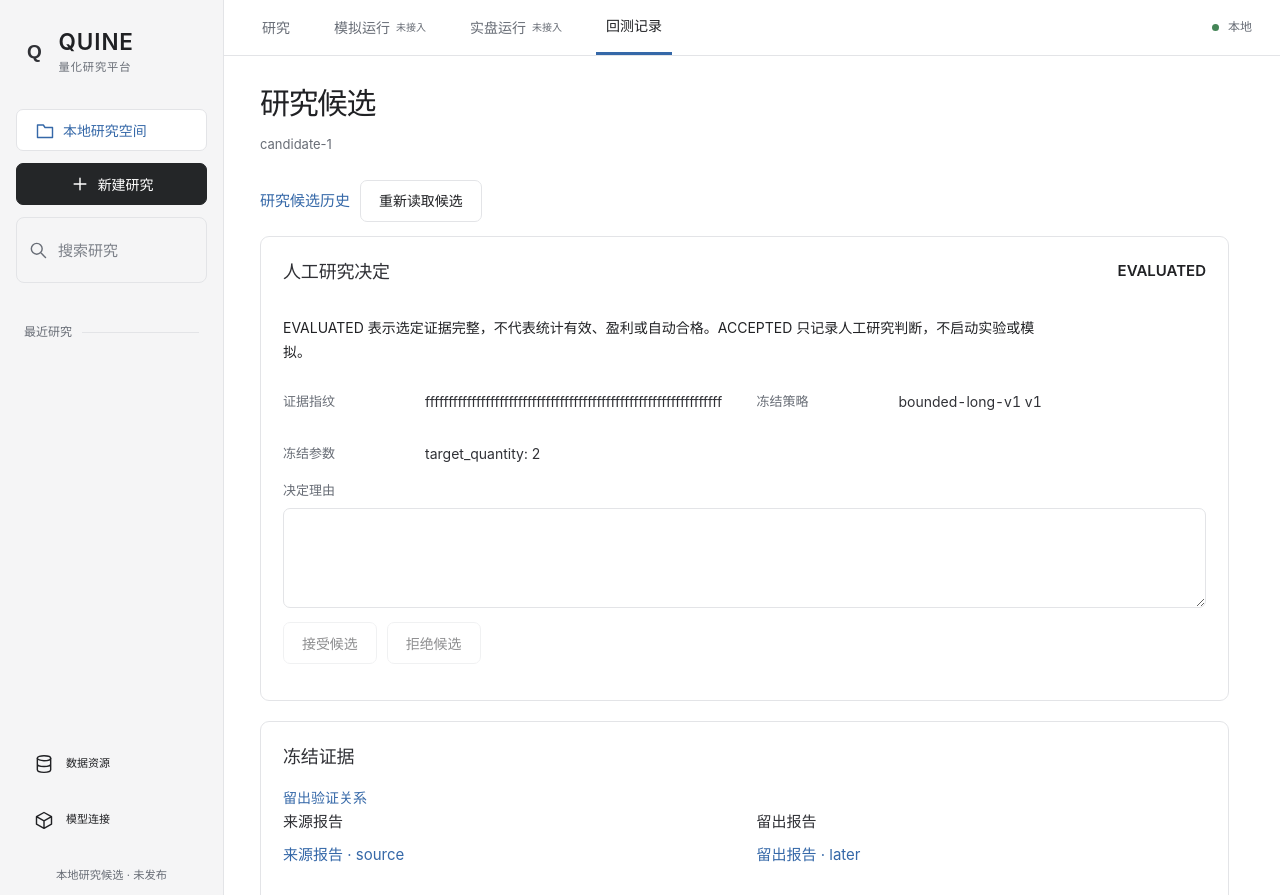
Test: reads back an uncertain decision without replaying it
The image size is (1280, 895).
Type "人工判断" into the text box labelled "决定理由". click: (744, 558)
box: [283,508,1206,608]
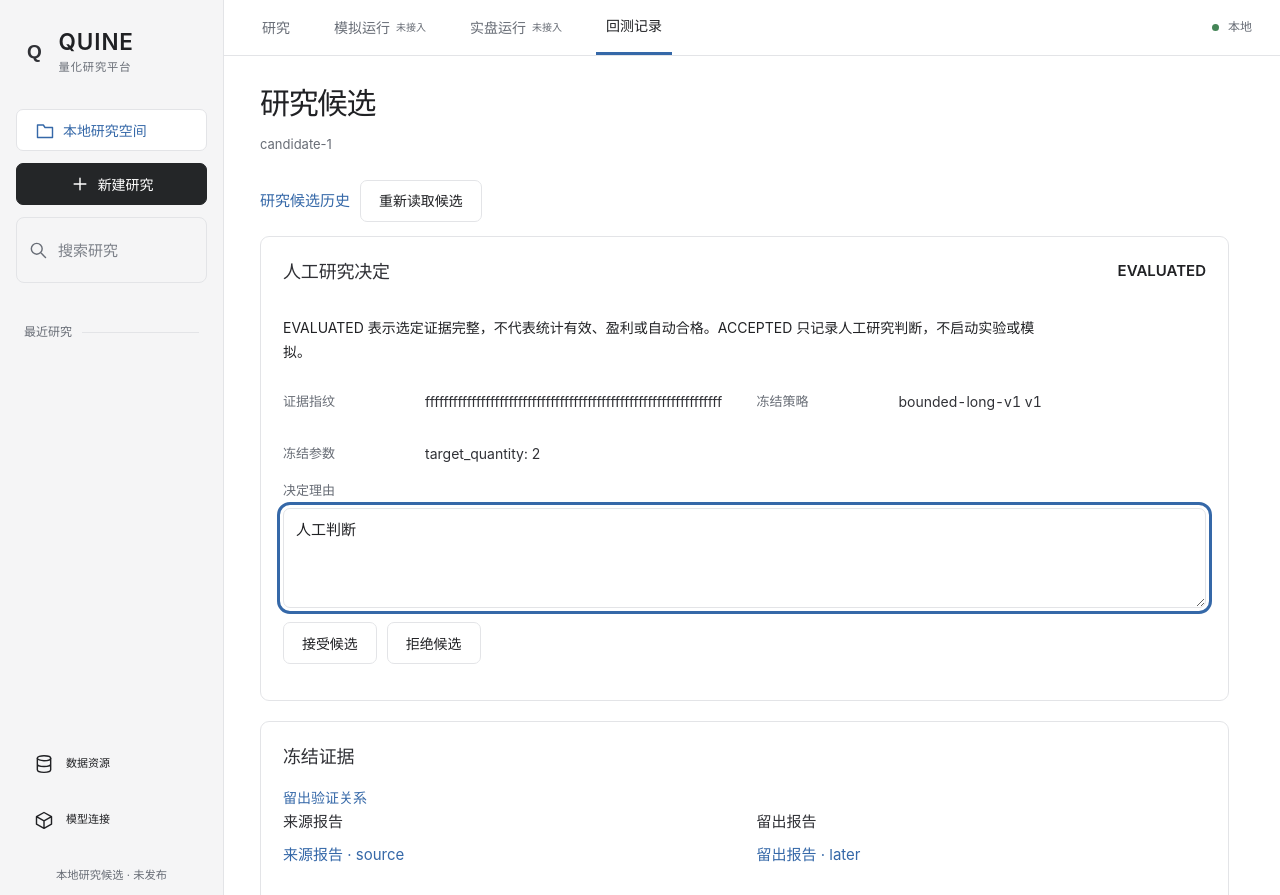
Click the button "接受候选". click: (330, 644)
box: [283,622,377,664]
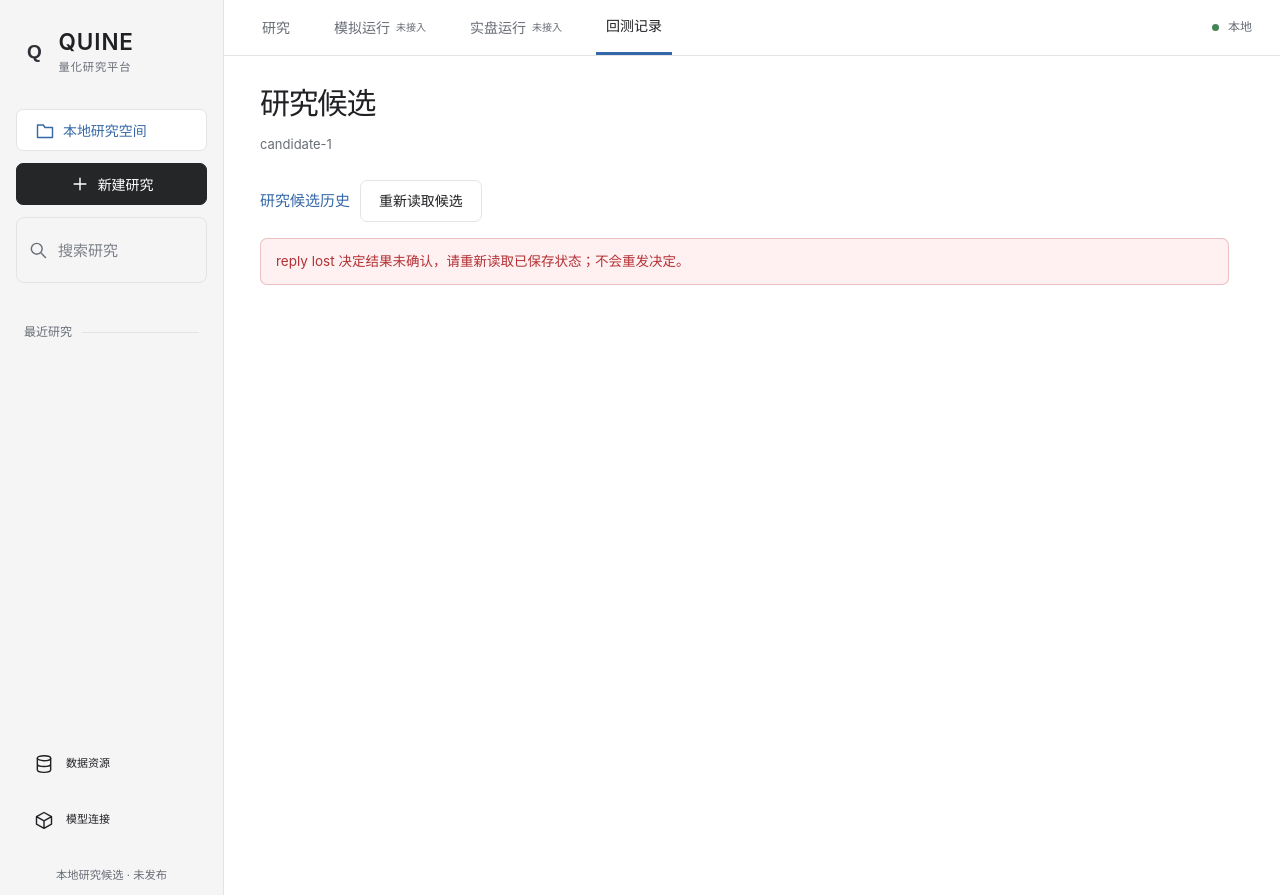
Now the message "reply lost 决定结果未确认，请重新读取已保存状态；不会重发决定。" is shown, box [260,238,1229,285]
Now the button "接受候选" is gone
Click the button "重新读取候选". click: (421, 201)
box: [360,180,482,222]
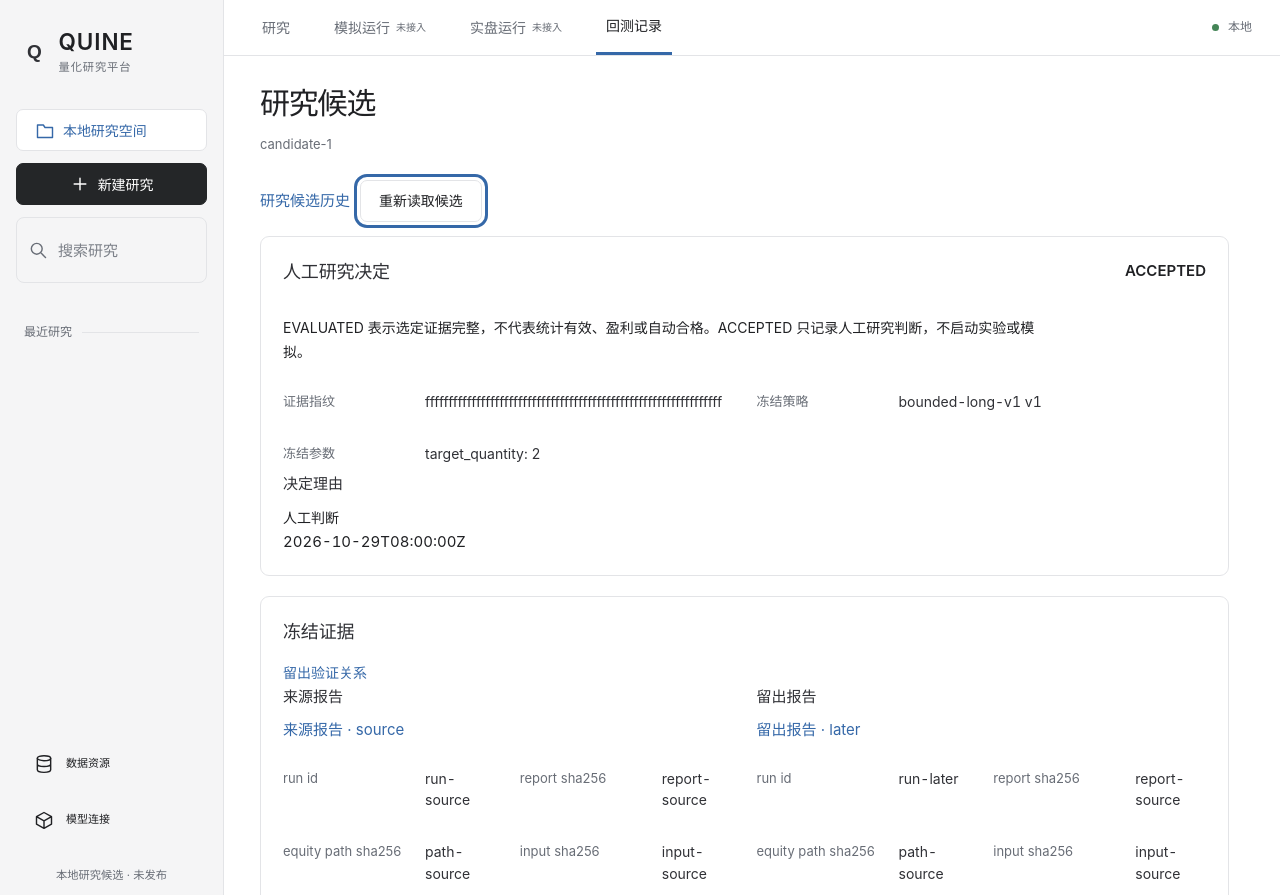
Now the text "ACCEPTED" is shown, box [1125,259,1206,282]
